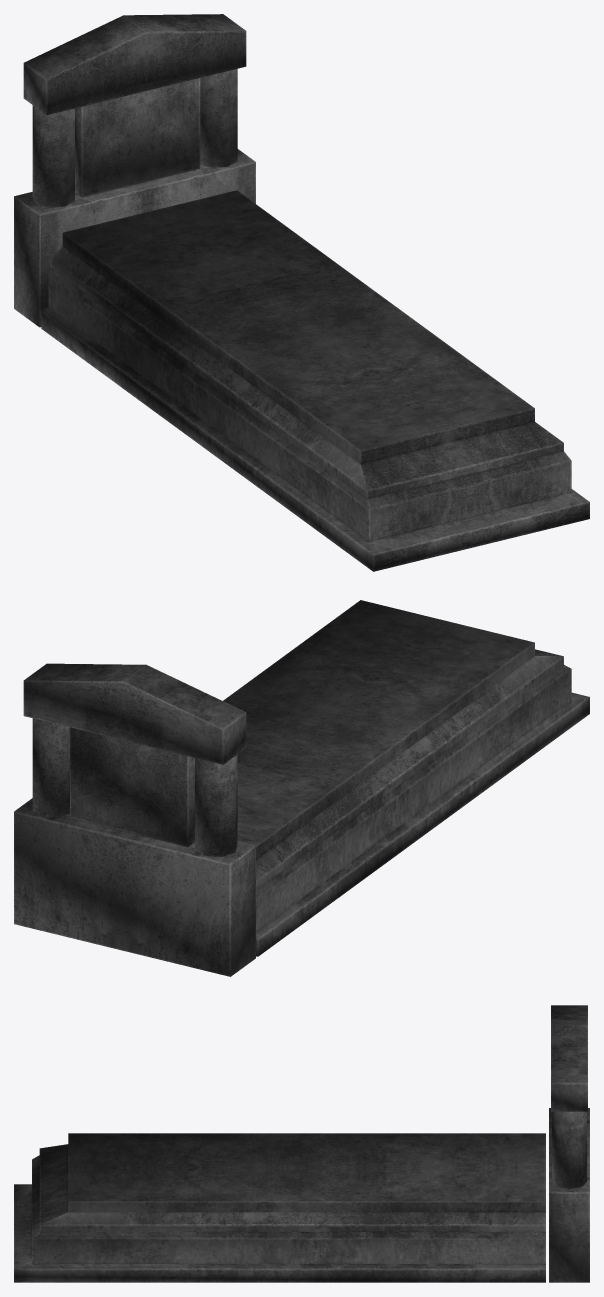
File: big_tomb2.glb
3 renders of one model, top to bottom at view 1: azimuth 30°, elevation 25°; view 2: azimuth 150°, elevation 25°; view 3: azimuth 270°, elevation 25°, orthographic. The views are drawn at different scales.
Parts seen in each view (by area): view 1: defaultMaterial.001; view 2: defaultMaterial.001; view 3: defaultMaterial.001.
Part boxes in pixels (<box>): defaultMaterial.001: <box>14,14,589,571</box>; defaultMaterial.001: <box>14,600,589,976</box>; defaultMaterial.001: <box>14,1005,589,1282</box>.
Bounding box in the file's own units: 0.687 × 0.8121 × 1.97.
Materials: 1 (1 with a texture image).
